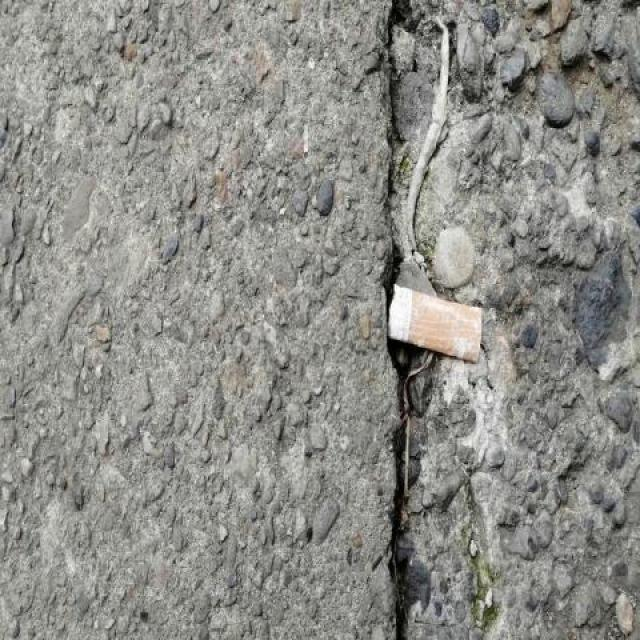non-organic waste: (380, 281, 488, 368)
